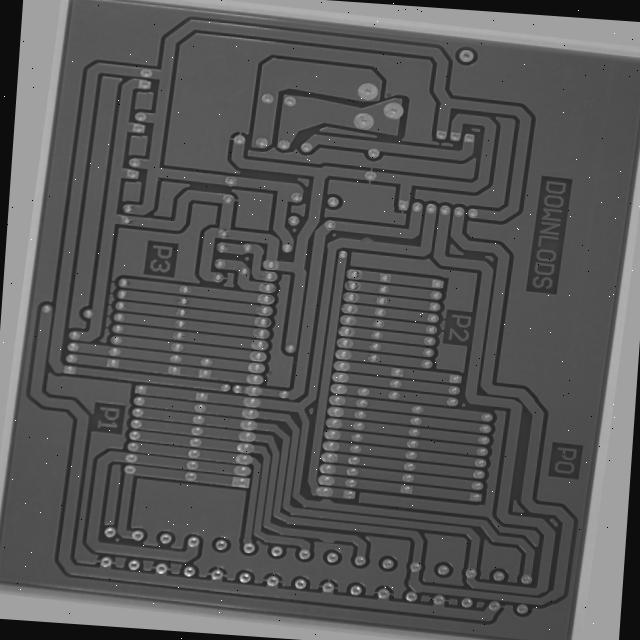spur: (347, 225, 376, 244), (326, 540, 354, 555), (324, 501, 349, 516)
